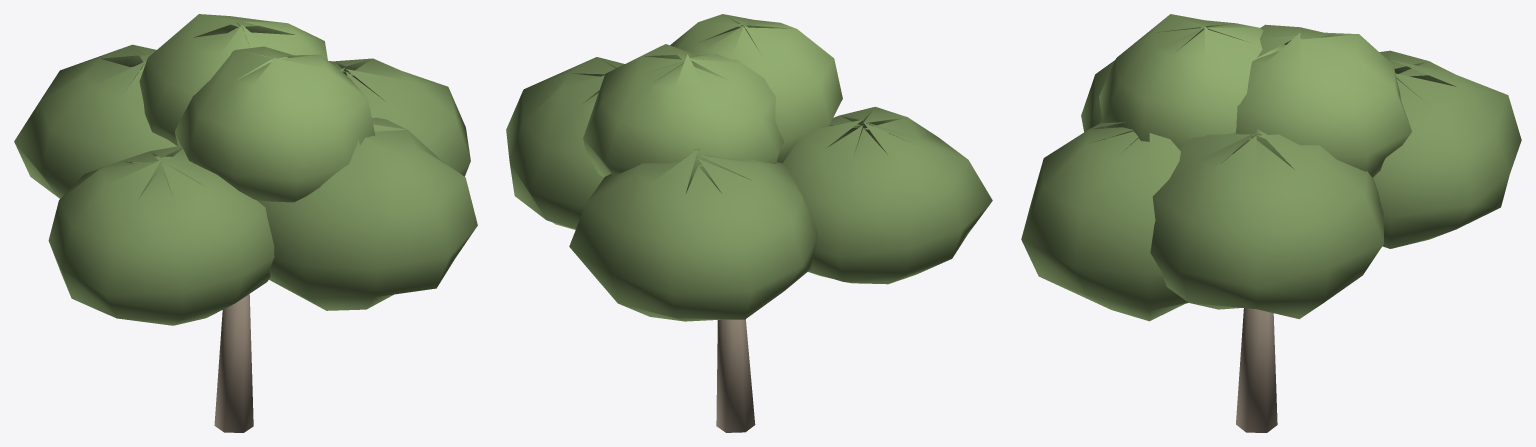
The model's file is camphor-mid.glb.
3 renders of one model, left to right at view 1: azimuth 30°, elevation 25°; view 2: azimuth 150°, elevation 25°; view 3: azimuth 270°, elevation 25°, orthographic. The views are drawn at different scales.
Parts seen in each view (by area): view 1: camphor-mid_canopy_camphor_shade, camphor-mid_canopy_camphor, camphor-mid_canopy_bark; view 2: camphor-mid_canopy_camphor_shade, camphor-mid_canopy_camphor, camphor-mid_canopy_bark; view 3: camphor-mid_canopy_camphor_shade, camphor-mid_canopy_camphor, camphor-mid_canopy_bark.
Boxes of the visible parts, x1,y1,x2,y2 form: camphor-mid_canopy_camphor_shade: (14,44,477,325); camphor-mid_canopy_camphor: (139,14,375,202); camphor-mid_canopy_bark: (214,294,253,432); camphor-mid_canopy_camphor_shade: (506,57,992,321); camphor-mid_canopy_camphor: (583,14,842,193); camphor-mid_canopy_bark: (716,319,755,432); camphor-mid_canopy_camphor_shade: (1021,50,1521,321); camphor-mid_canopy_camphor: (1099,14,1411,177); camphor-mid_canopy_bark: (1236,308,1277,432).
Size of the model in its own units: 21.63 by 18.36 by 20.4.
